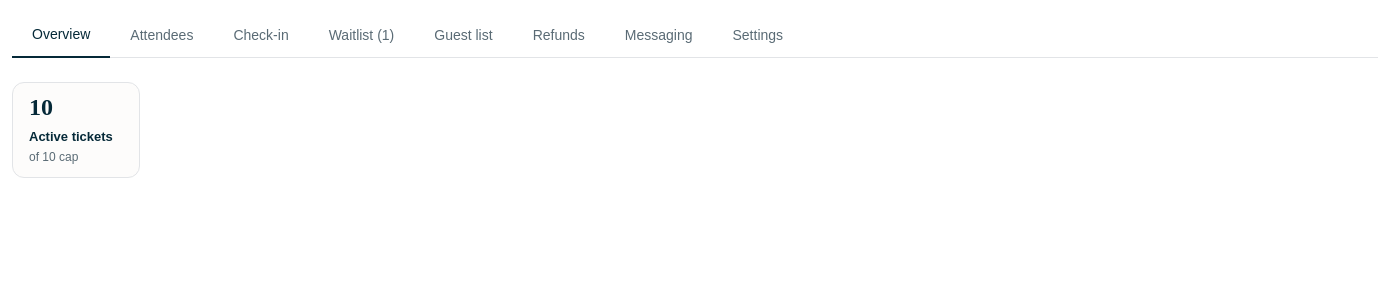
it: ManageEventTabs — Waitlist tab: Offer / Resend › warns before the click when the event is full
Click the button "Waitlist (1)": (362, 34) [309, 12, 414, 57]
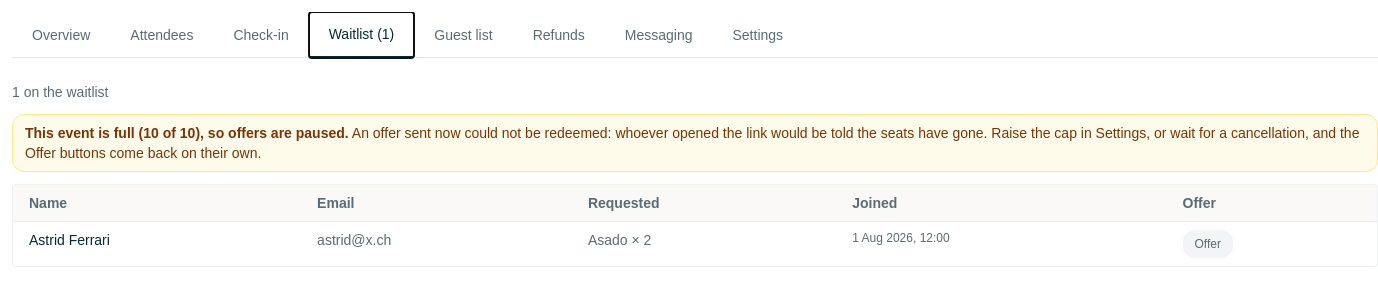
Check: the text "This event is full (10 of 10), so offers are paused." is shown, box [25, 125, 349, 141]
Check: the text "could not be redeemed" is shown, box [25, 125, 1359, 161]
